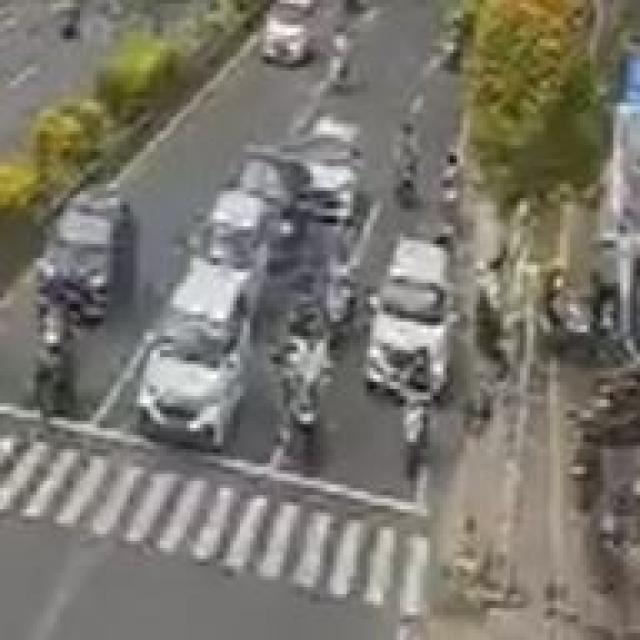car: (138, 273, 251, 444), (367, 246, 460, 401), (44, 194, 148, 308)
motorbike: (386, 374, 449, 495), (19, 317, 86, 419), (286, 359, 327, 478)
